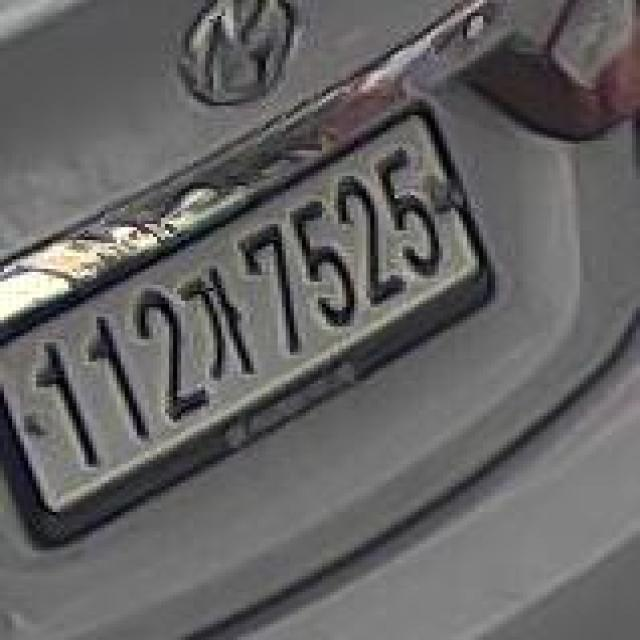illegal_plate: (0, 99, 498, 557)
